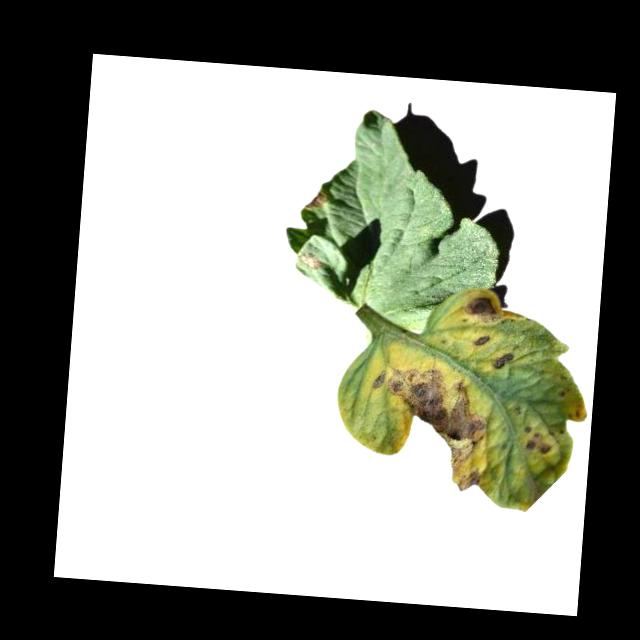Early_blight: (362, 359, 496, 493), (463, 293, 505, 321), (521, 423, 553, 454), (304, 188, 330, 211), (298, 250, 325, 269), (493, 347, 514, 369), (475, 329, 492, 346)
